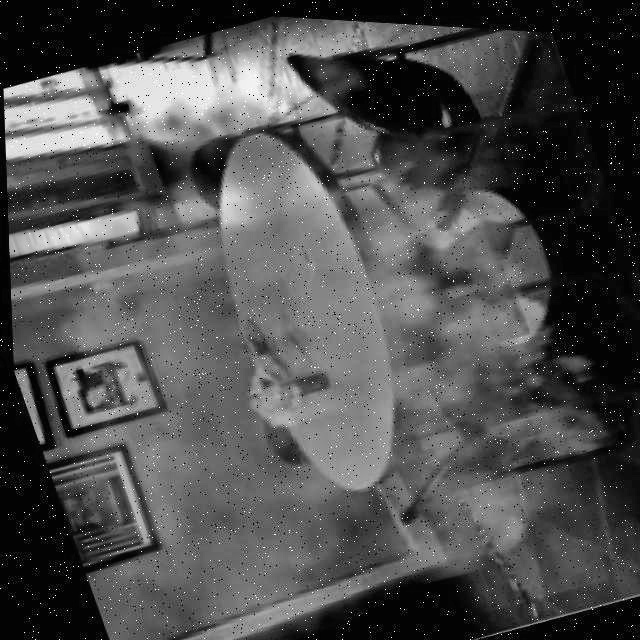Smoke: (3, 15, 640, 640)
